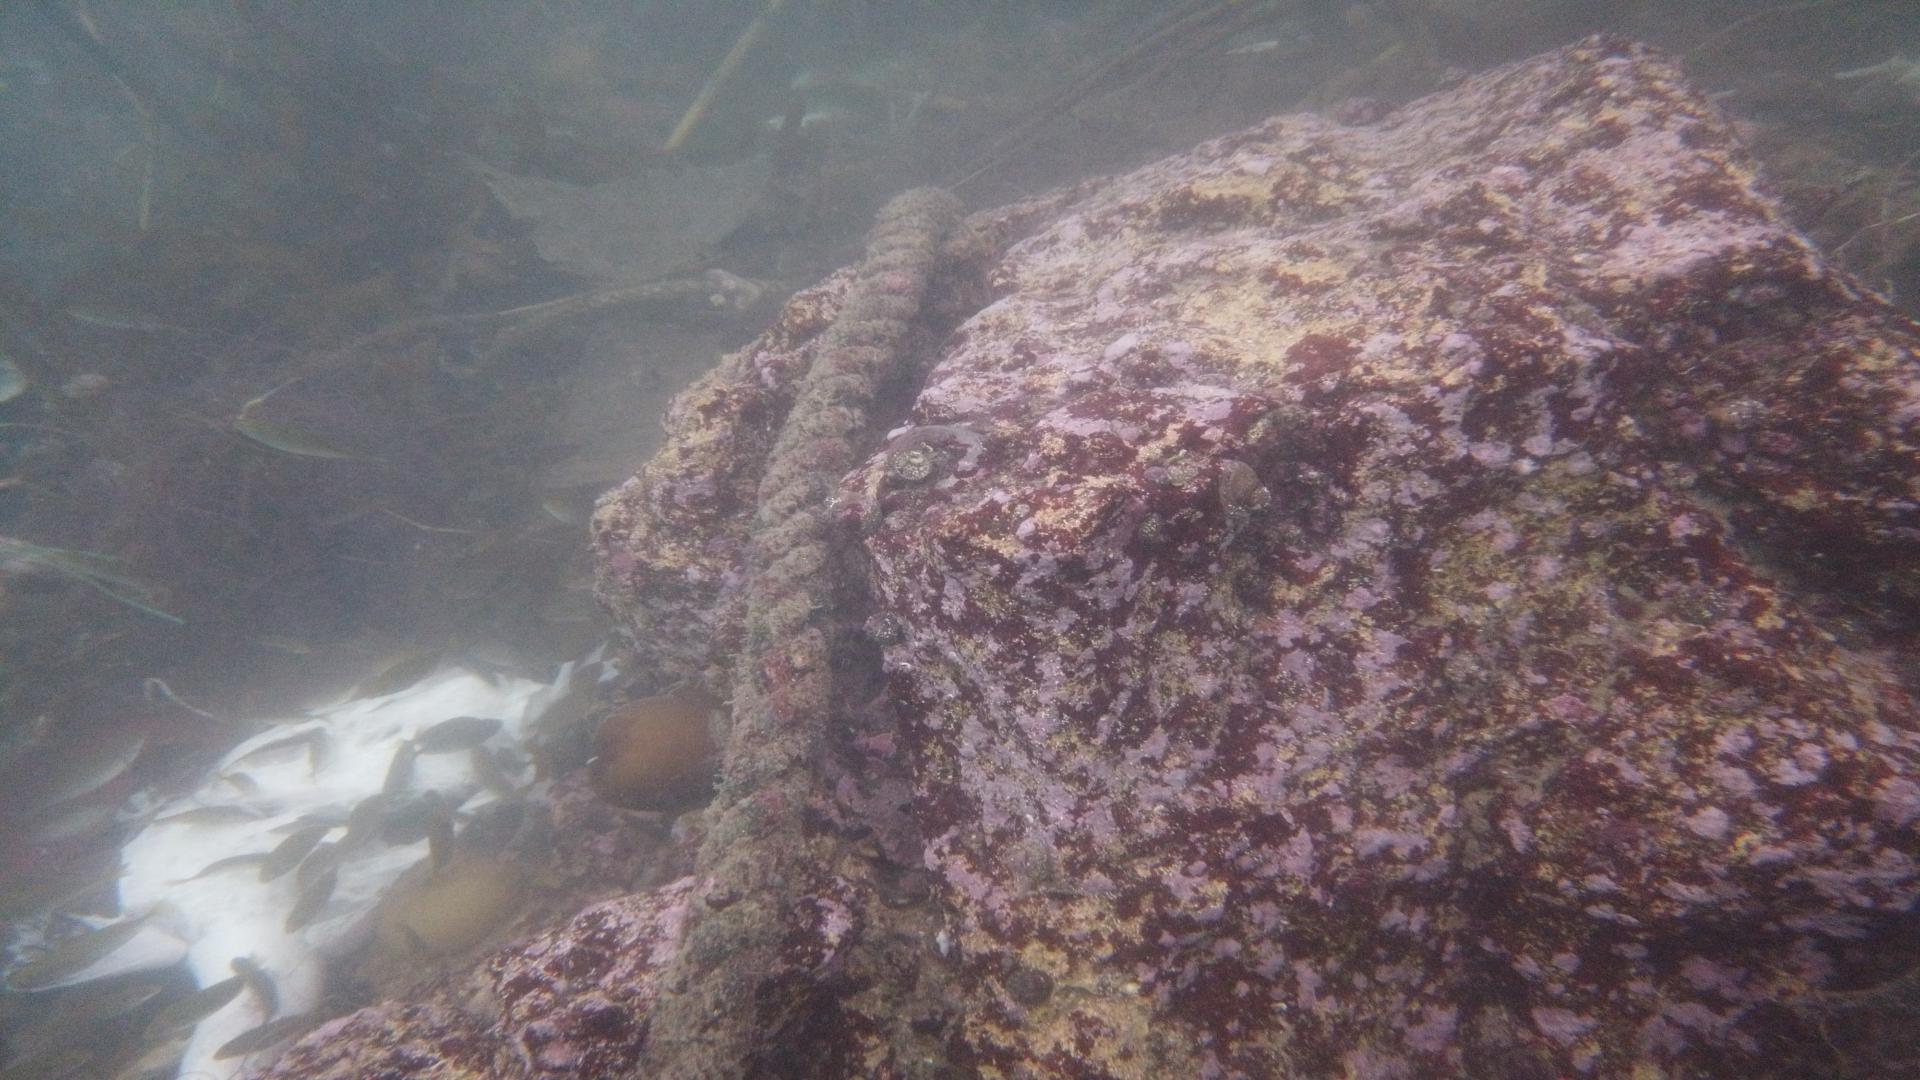rope: (630, 189, 961, 1080)
